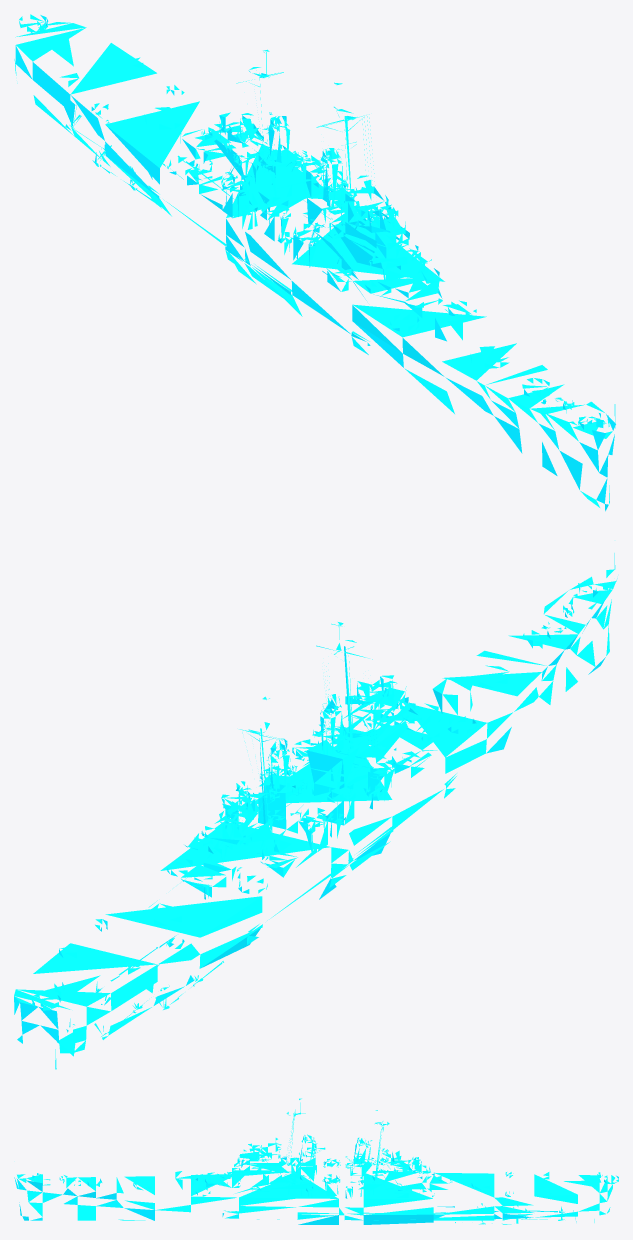
Rendered from Baltimore.glb.
The picture shows the model from 3 angles, top to bottom: view 1: azimuth 30°, elevation 25°; view 2: azimuth 150°, elevation 25°; view 3: azimuth 270°, elevation 25°; orthographic projection. The views are drawn at different scales.
Bounding box in the file's own units: 1.45 × 3.09 × 13.7.
